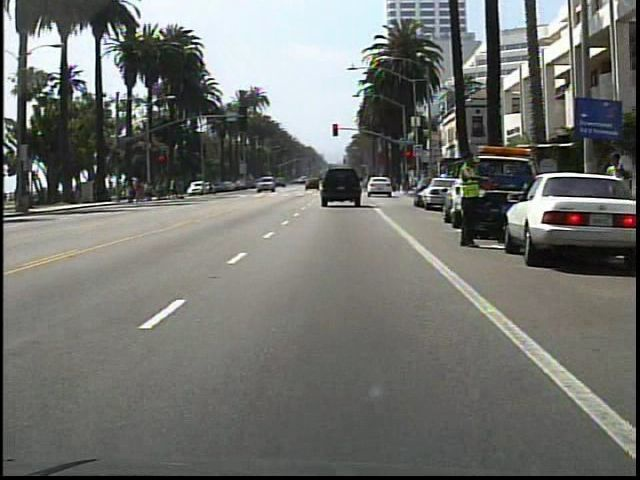person: (594, 146, 629, 246), (455, 147, 485, 256), (202, 173, 221, 202)
